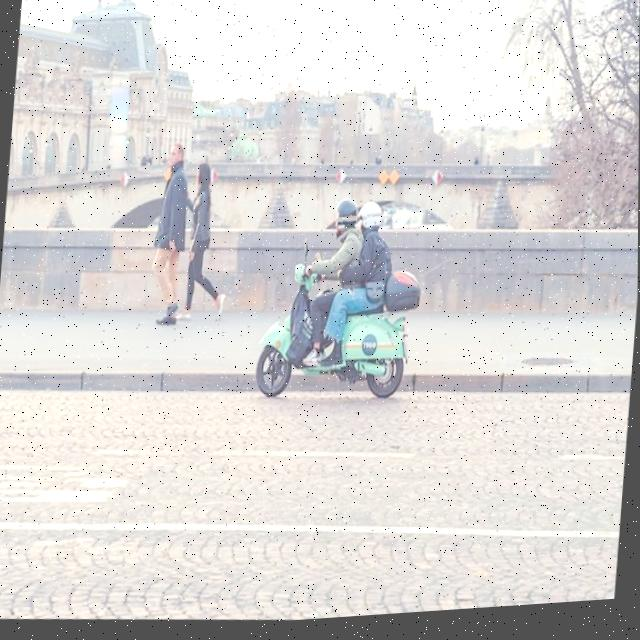motorcycle: (249, 232, 426, 414)
